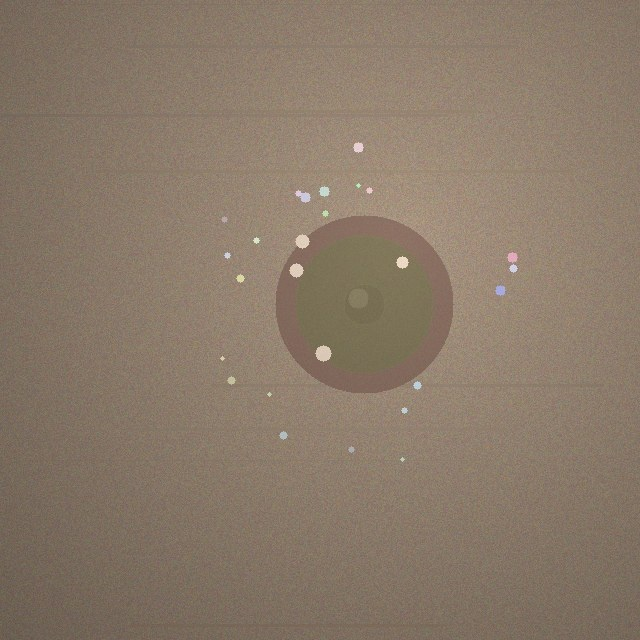overburn: (275, 215, 453, 393)
